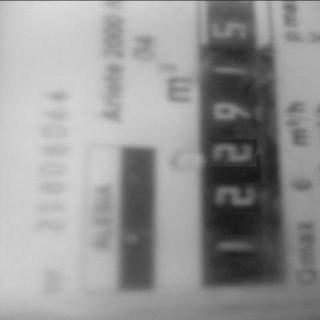2: (213, 234, 263, 256), (211, 62, 252, 78)
6: (211, 182, 260, 211), (210, 139, 256, 166), (210, 19, 251, 43)
object: (211, 100, 254, 125)
